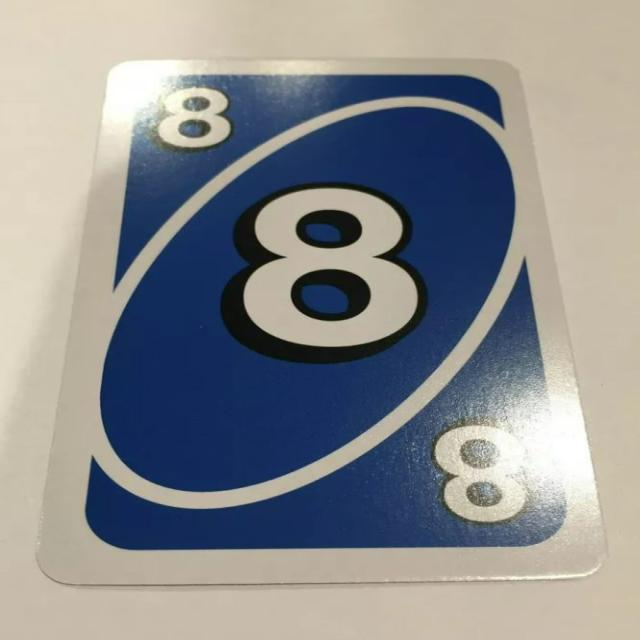Blue_Card: (81, 69, 574, 556)
Number_8: (156, 85, 235, 158)
